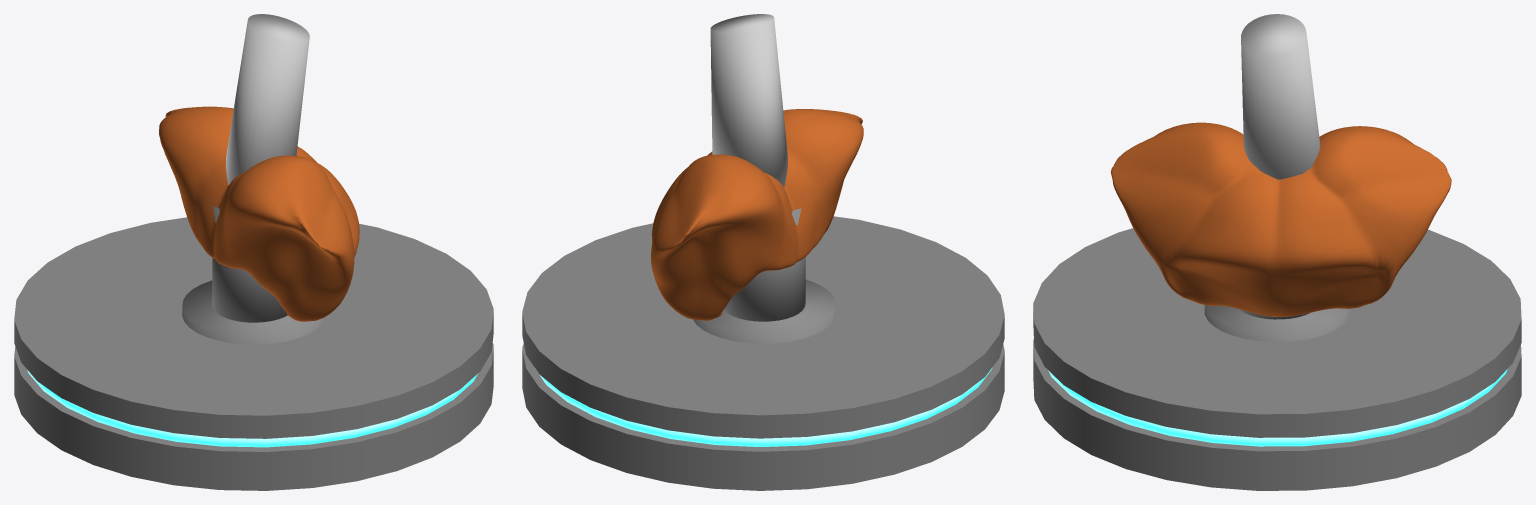
File: robot_platform.001.fbx
3 renders of one model, left to right at view 1: azimuth 30°, elevation 25°; view 2: azimuth 150°, elevation 25°; view 3: azimuth 270°, elevation 25°, orthographic.
Visible parts, largest first — view 1: robot_platform.001; view 2: robot_platform.001; view 3: robot_platform.001.
Boxes of the visible parts, box(x1,y1,x2,y2) form: robot_platform.001: box(14, 14, 493, 490); robot_platform.001: box(522, 14, 1004, 490); robot_platform.001: box(1033, 14, 1521, 490).
Bounding box in the file's own units: 55.4 × 55.4 × 46.59.
